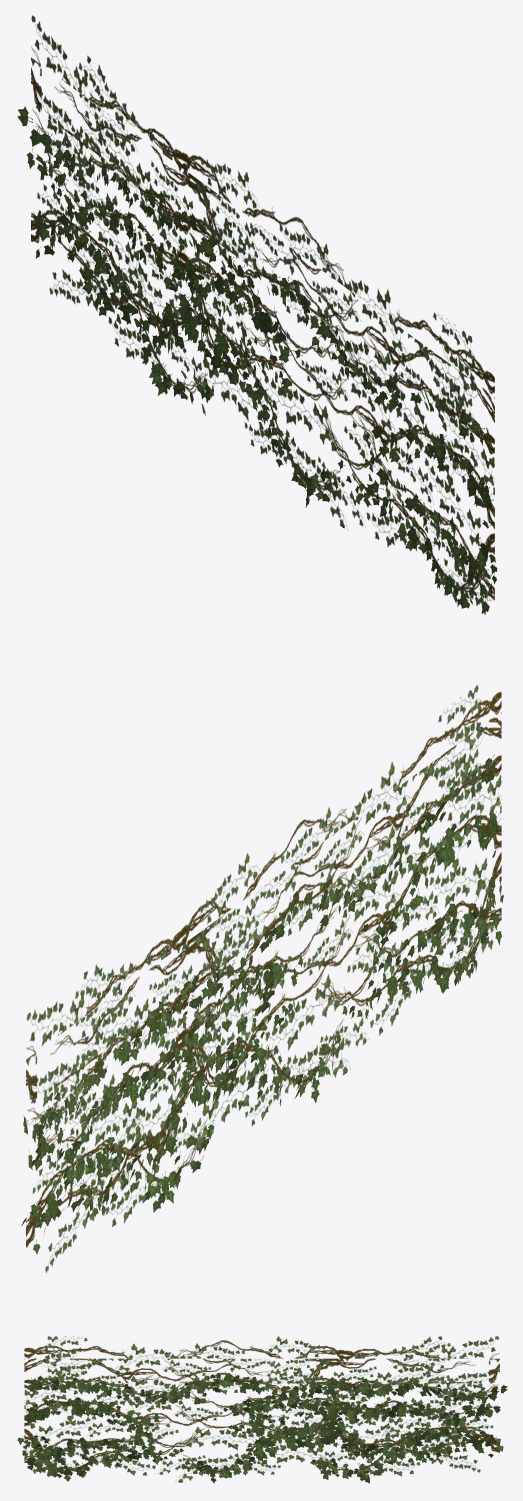
File: Ivy_01.glb
The picture shows the model from 3 angles, top to bottom: view 1: azimuth 30°, elevation 25°; view 2: azimuth 150°, elevation 25°; view 3: azimuth 270°, elevation 25°; orthographic projection. The views are drawn at different scales.
Visible parts, largest first — view 1: Ivy Wall_R; view 2: Ivy Wall_R; view 3: Ivy Wall_R.
Boxes of the visible parts, x1,y1,x2,y2 form: Ivy Wall_R: (17, 15, 497, 614); Ivy Wall_R: (21, 685, 503, 1272); Ivy Wall_R: (17, 1336, 507, 1483).
Bounding box in the file's own units: 0.386 × 5.22 × 15.61.
Materials: 1 (1 with a texture image).
